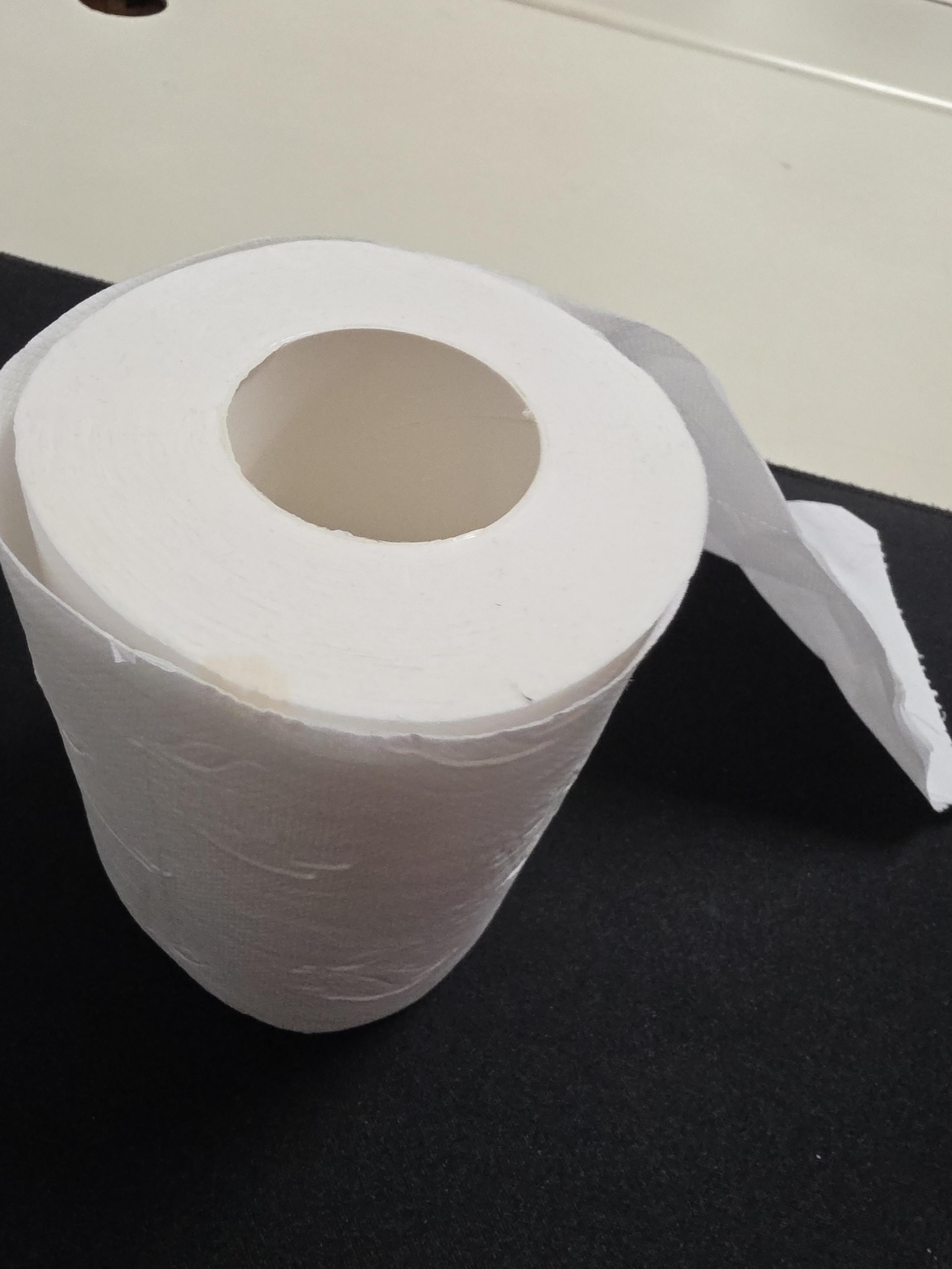tissue: (0, 235, 951, 1035)
